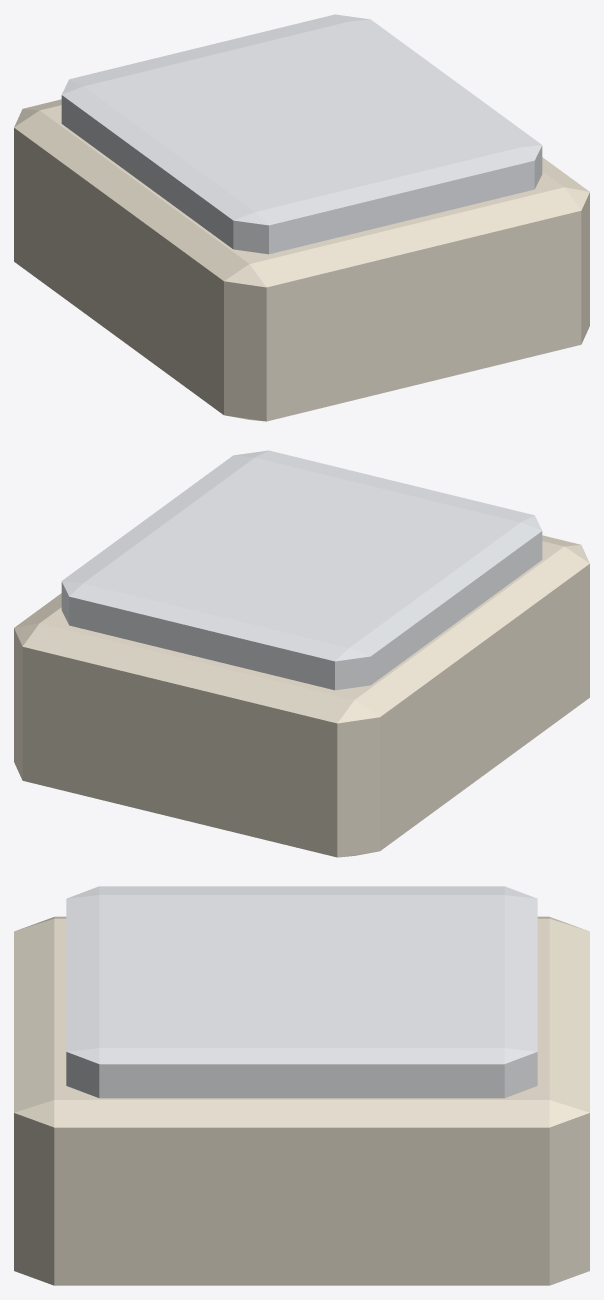
File: b17_skate_elbow_guard.glb
The picture shows the model from 3 angles, top to bottom: view 1: azimuth 30°, elevation 25°; view 2: azimuth 150°, elevation 25°; view 3: azimuth 270°, elevation 25°; orthographic projection. The views are drawn at different scales.
Visible parts, largest first — view 1: b17_skate_elbow_guard; view 2: b17_skate_elbow_guard; view 3: b17_skate_elbow_guard.
Boxes of the visible parts, x1,y1,x2,y2 form: b17_skate_elbow_guard: [14, 14, 589, 421]; b17_skate_elbow_guard: [14, 450, 589, 857]; b17_skate_elbow_guard: [14, 886, 589, 1285].
Bounding box in the file's own units: 0.155 × 0.076 × 0.179.
